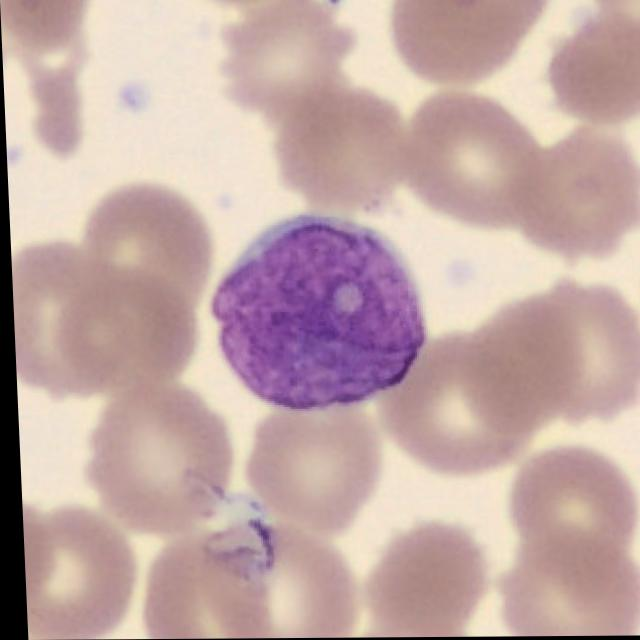Linfocito: (207, 216, 425, 413)
